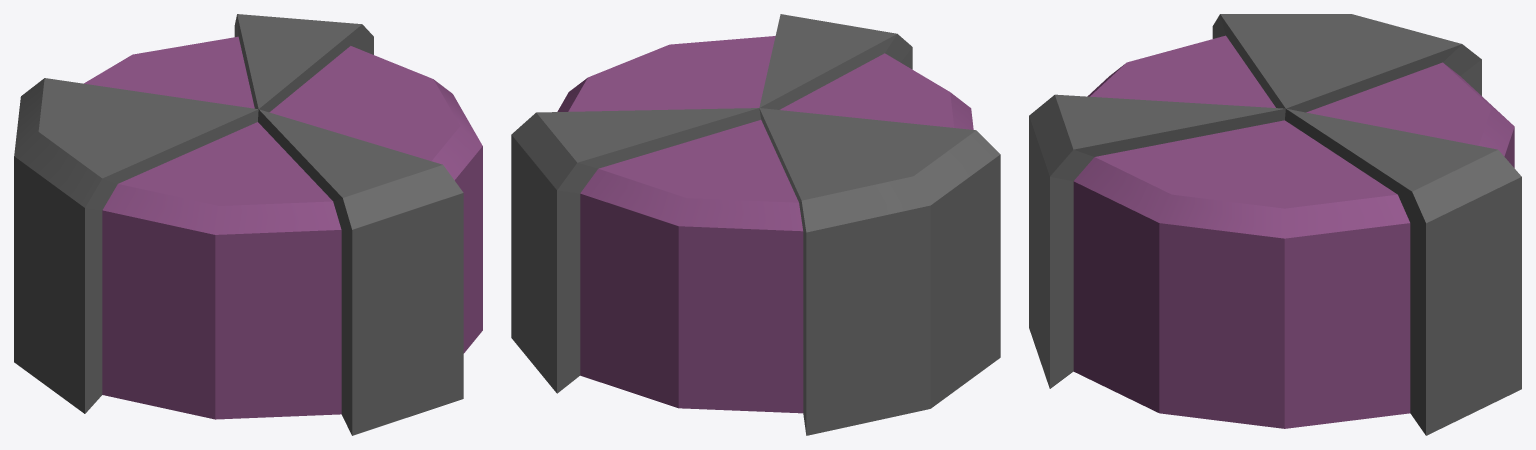
File: TurretBase.fbx
3 renders of one model, left to right at view 1: azimuth 30°, elevation 25°; view 2: azimuth 150°, elevation 25°; view 3: azimuth 270°, elevation 25°, orthographic. The views are drawn at different scales.
Visible parts, largest first — view 1: pCylinder1; view 2: pCylinder1; view 3: pCylinder1.
Part boxes in pixels (x1,y1,x2,y2): pCylinder1: [14, 14, 482, 435]; pCylinder1: [511, 14, 1000, 435]; pCylinder1: [1029, 14, 1521, 435].
Bounding box in the file's own units: 2.06 × 1.12 × 2.12.
